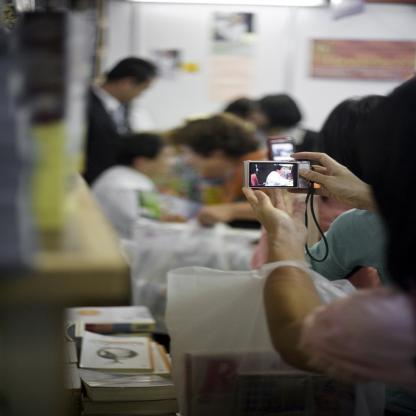Camera: (248, 148, 342, 193), (273, 139, 307, 167)
